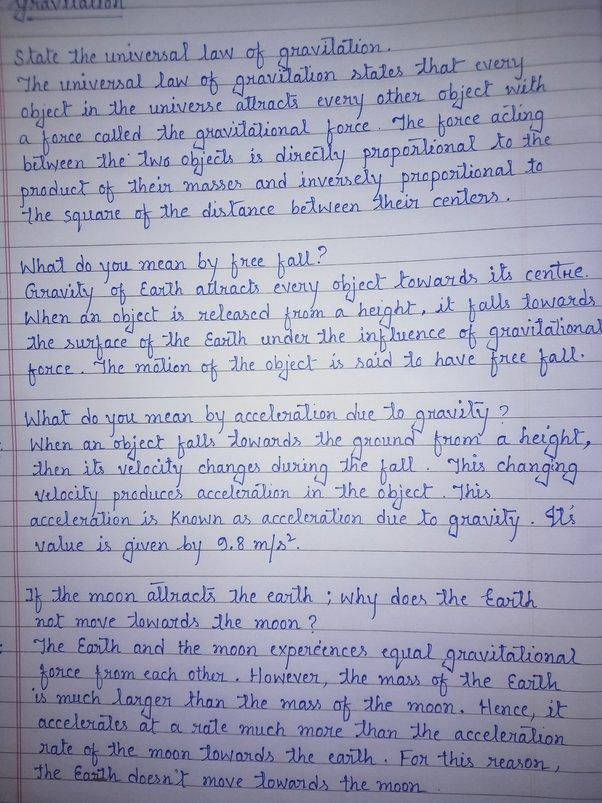text: (17, 70, 551, 132), (22, 255, 592, 313), (14, 98, 548, 158), (15, 153, 547, 210), (22, 311, 602, 362), (17, 126, 553, 180), (22, 285, 599, 333), (13, 183, 515, 238), (20, 342, 586, 390), (30, 631, 583, 677), (13, 51, 528, 100), (22, 577, 541, 623), (27, 420, 594, 462), (27, 501, 580, 544), (31, 683, 574, 725), (34, 736, 567, 778), (25, 448, 581, 488), (34, 707, 584, 747), (20, 394, 514, 437), (34, 659, 565, 695), (32, 477, 496, 515), (29, 757, 430, 799), (12, 32, 395, 73), (17, 241, 331, 289), (30, 531, 300, 568), (32, 608, 321, 634), (7, 0, 128, 27)
